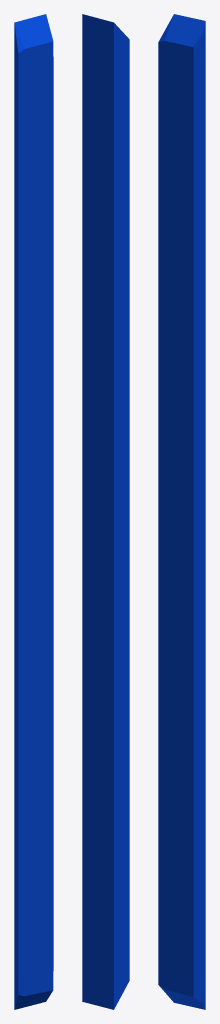
3 renders of one model, left to right at view 1: azimuth 30°, elevation 25°; view 2: azimuth 150°, elevation 25°; view 3: azimuth 330°, elevation 25°, orthographic.
Bounding box in the file's own units: 0.4578 × 11.5 × 0.2051.
